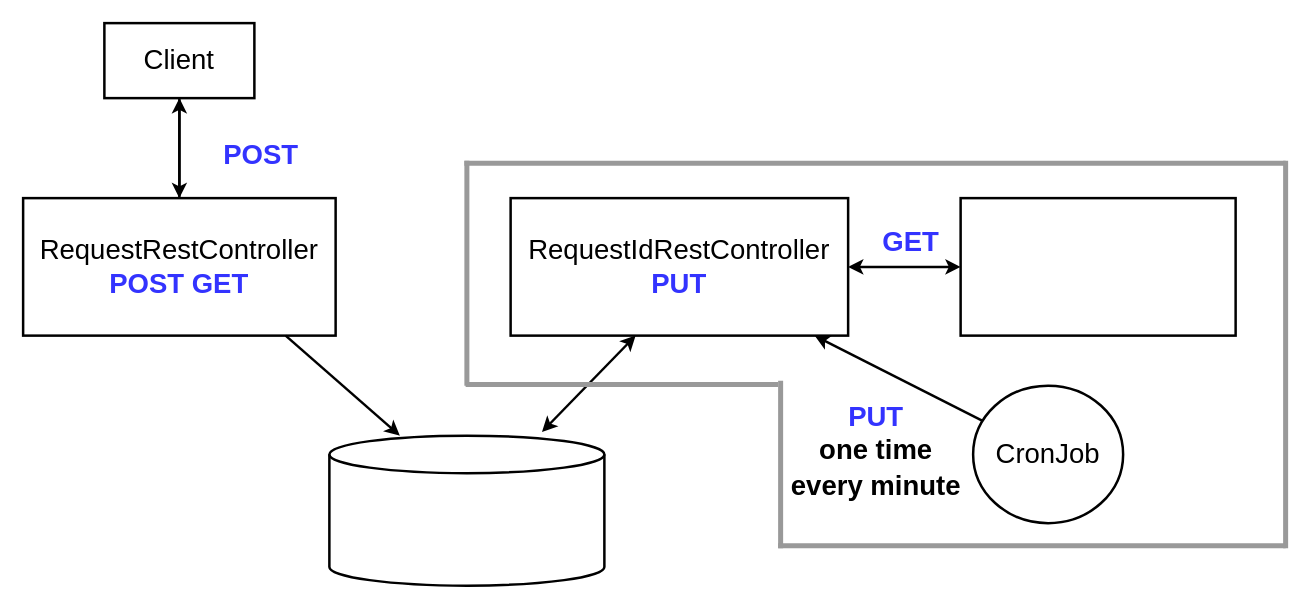
This 1315x608 diagram has some shape labels left out. The shapes that lost their labels are listed below. From the top down, each one's centre as x and y in pixels, then its label:
the point at 1097,266: StatusRestController GET
the point at 466,510: customer_data_base request_table
